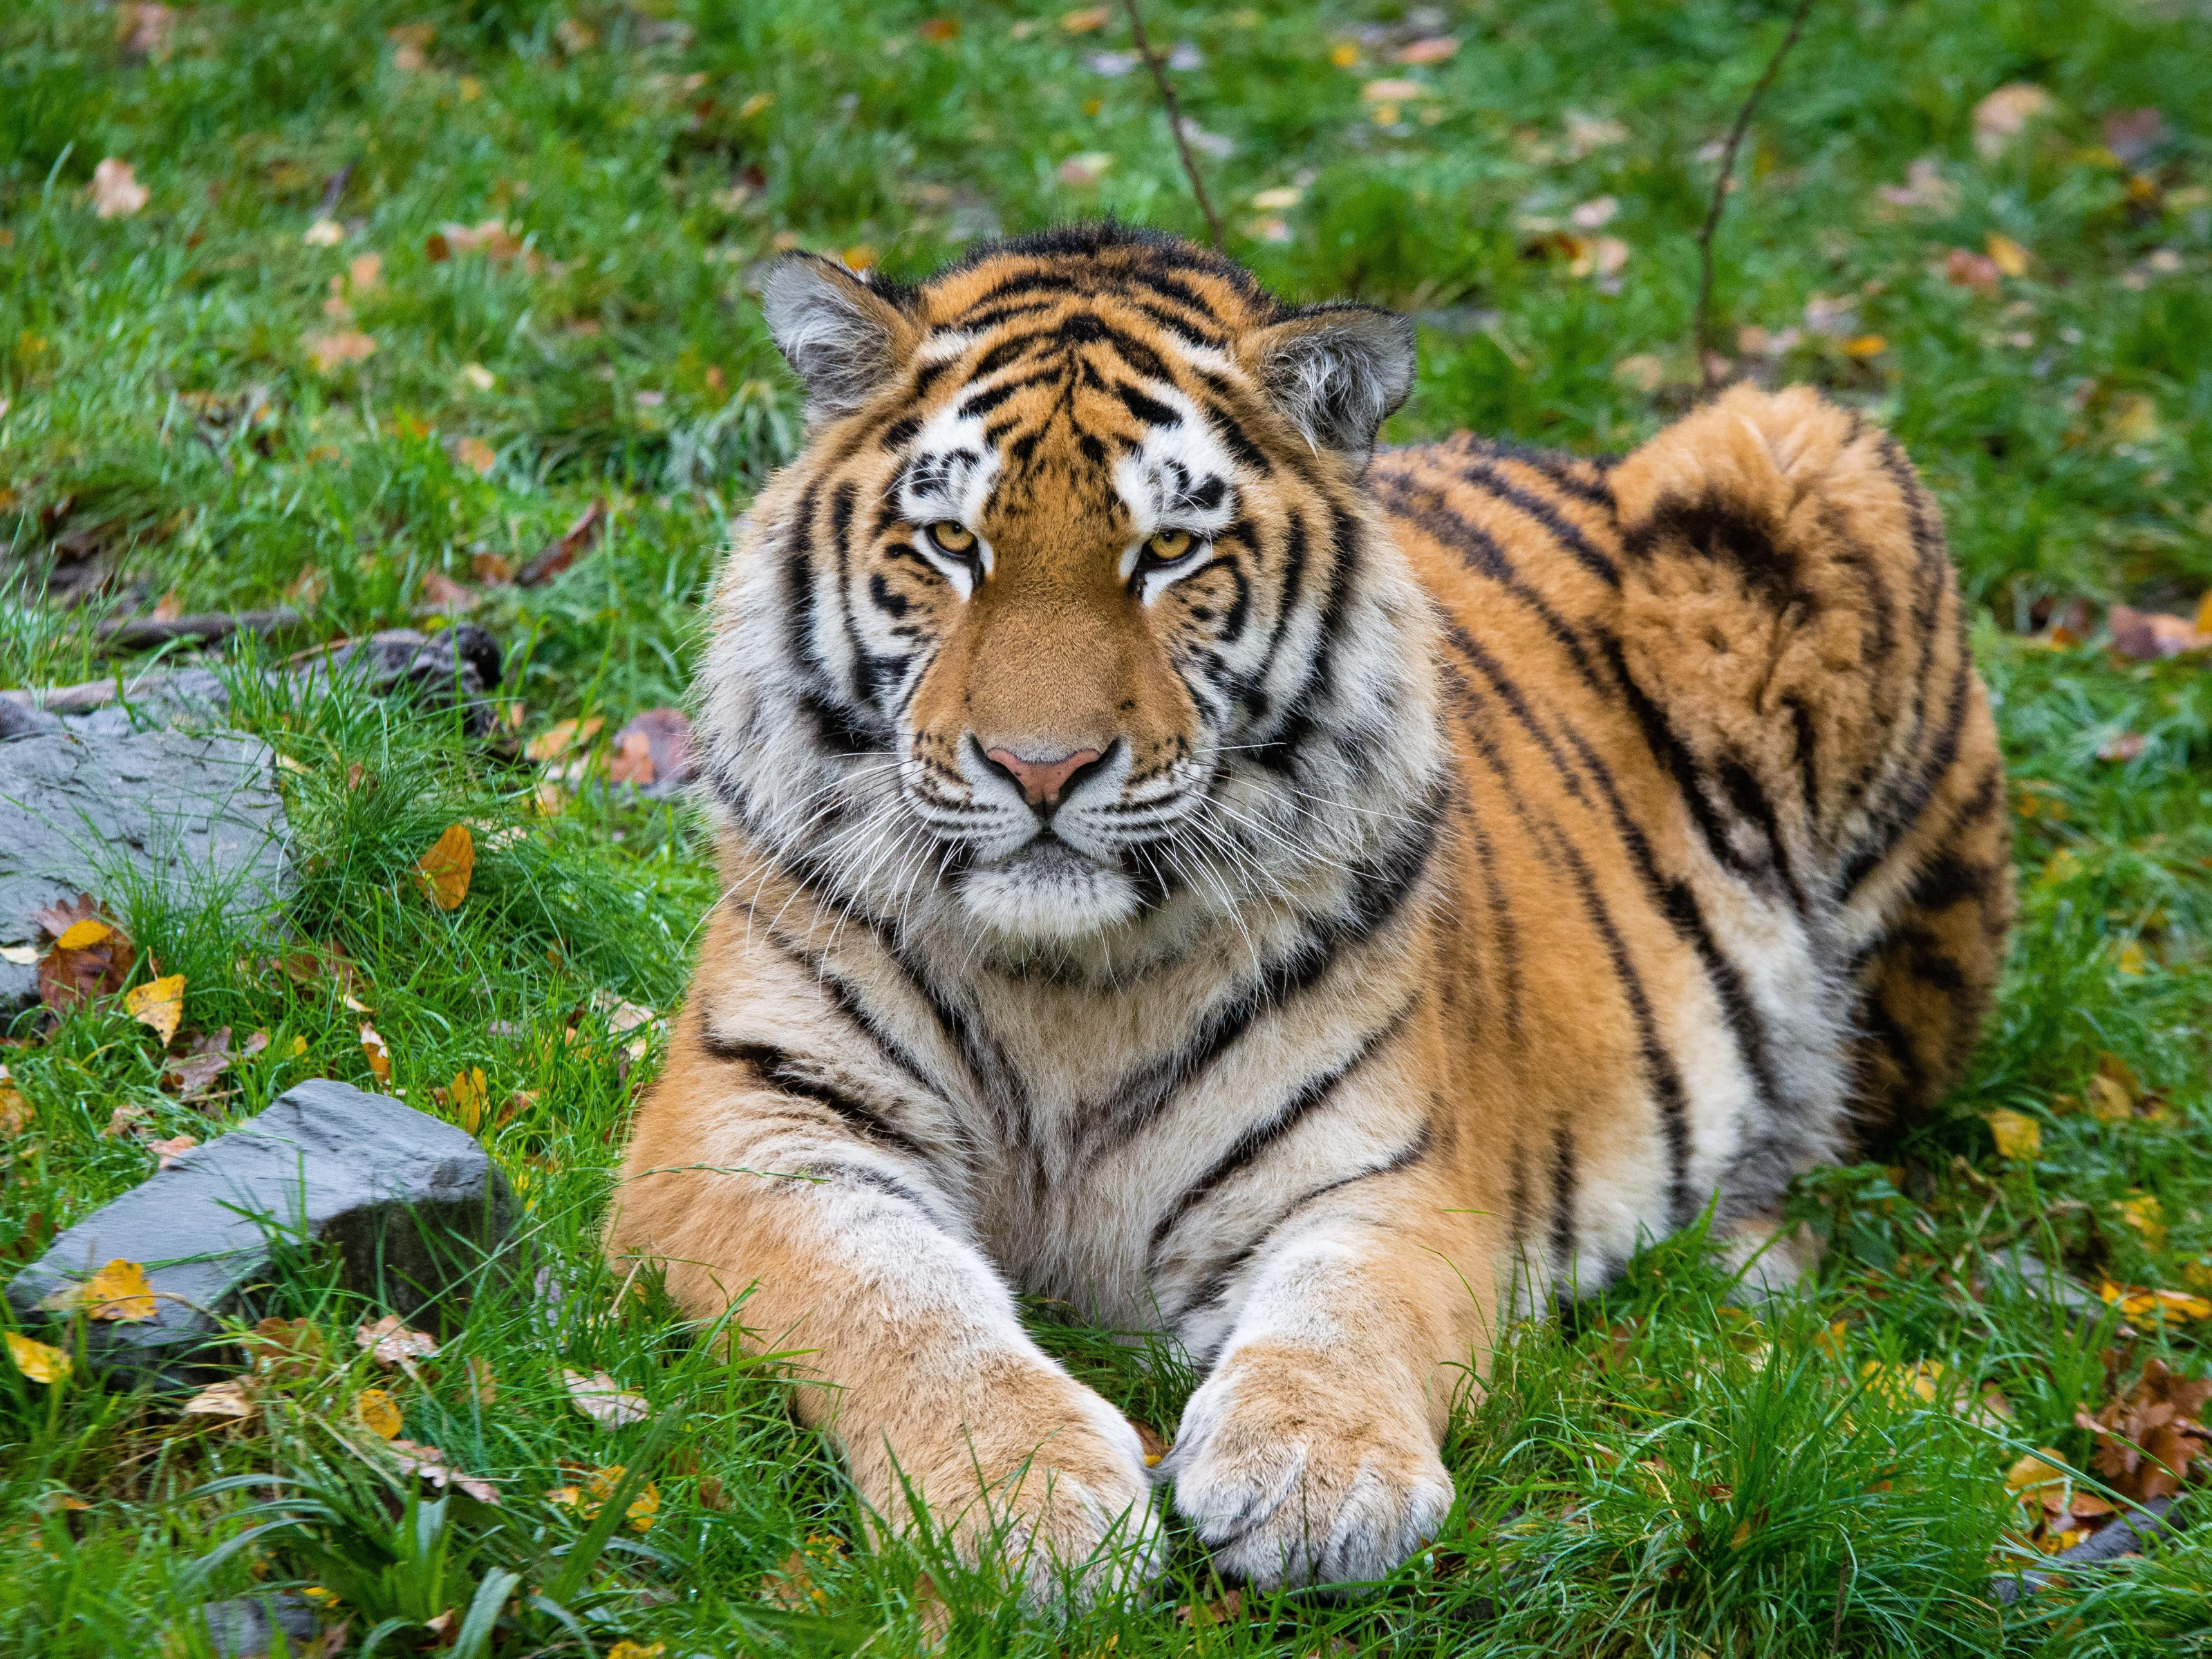Tigrew: (524, 174, 2040, 1589)
